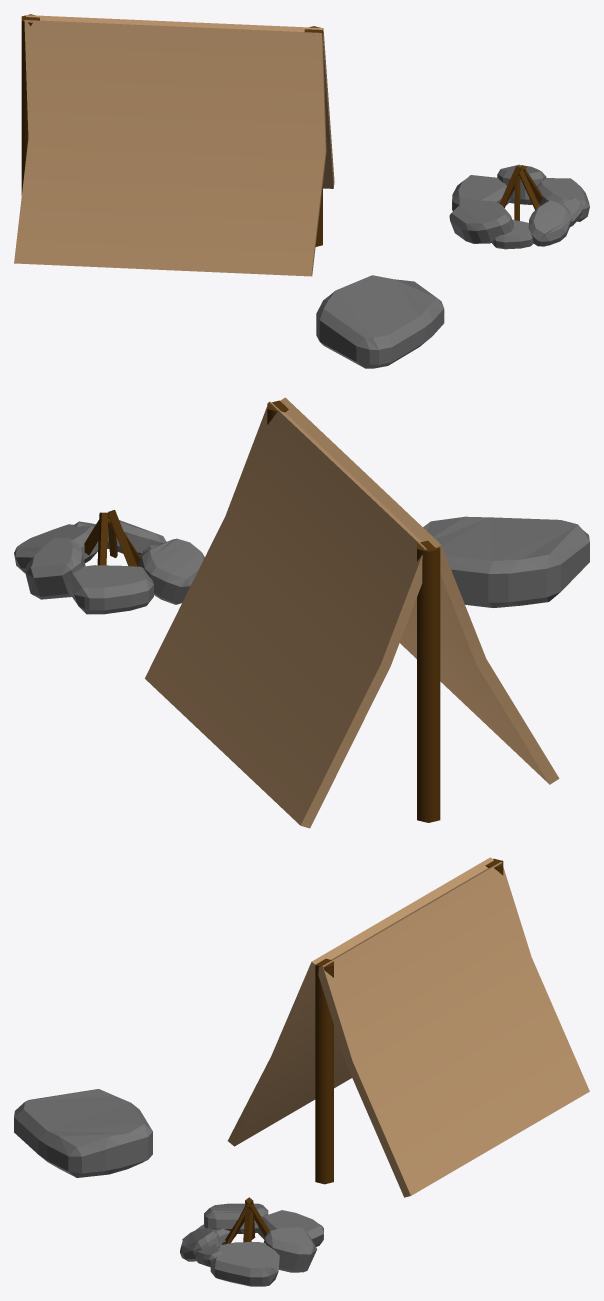
Rendered from CampDetail.fbx.
3 views of the same model, one above another, from view 1: azimuth 30°, elevation 25°; view 2: azimuth 150°, elevation 25°; view 3: azimuth 270°, elevation 25° (orthographic). The views are drawn at different scales.
Visible parts, largest first — view 1: Cylinder001; view 2: Cylinder001; view 3: Cylinder001.
Boxes of the visible parts, x1,y1,x2,y2 form: Cylinder001: [14, 14, 589, 368]; Cylinder001: [14, 397, 589, 828]; Cylinder001: [14, 857, 589, 1286].
Size of the model in its own units: 69.11 by 68.09 by 28.55.
